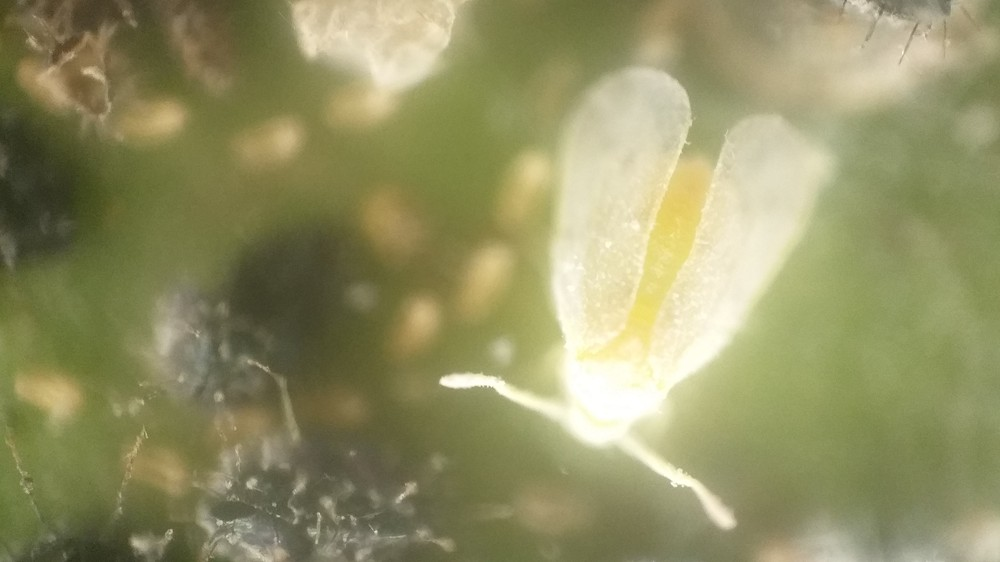Mosca Blanca: (428, 21, 832, 543)
